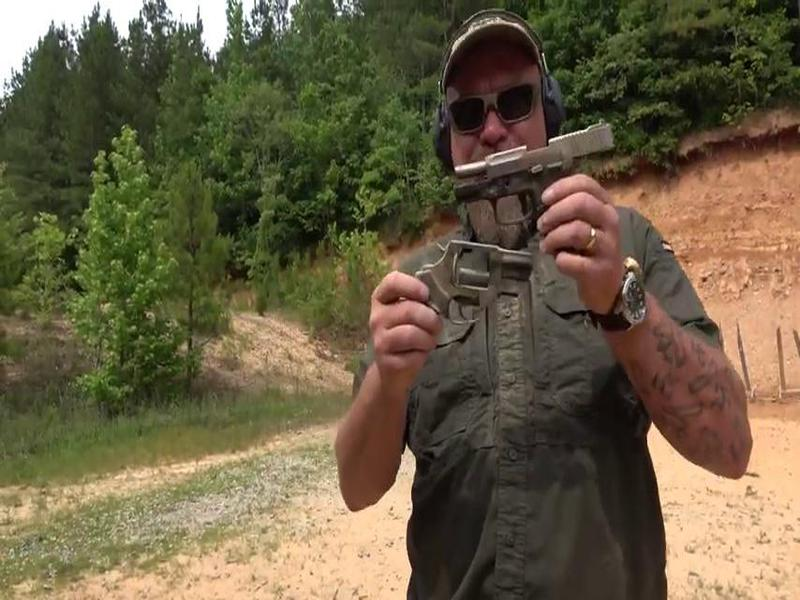Pistola: (440, 117, 627, 256)
Revolver: (362, 225, 564, 370)
